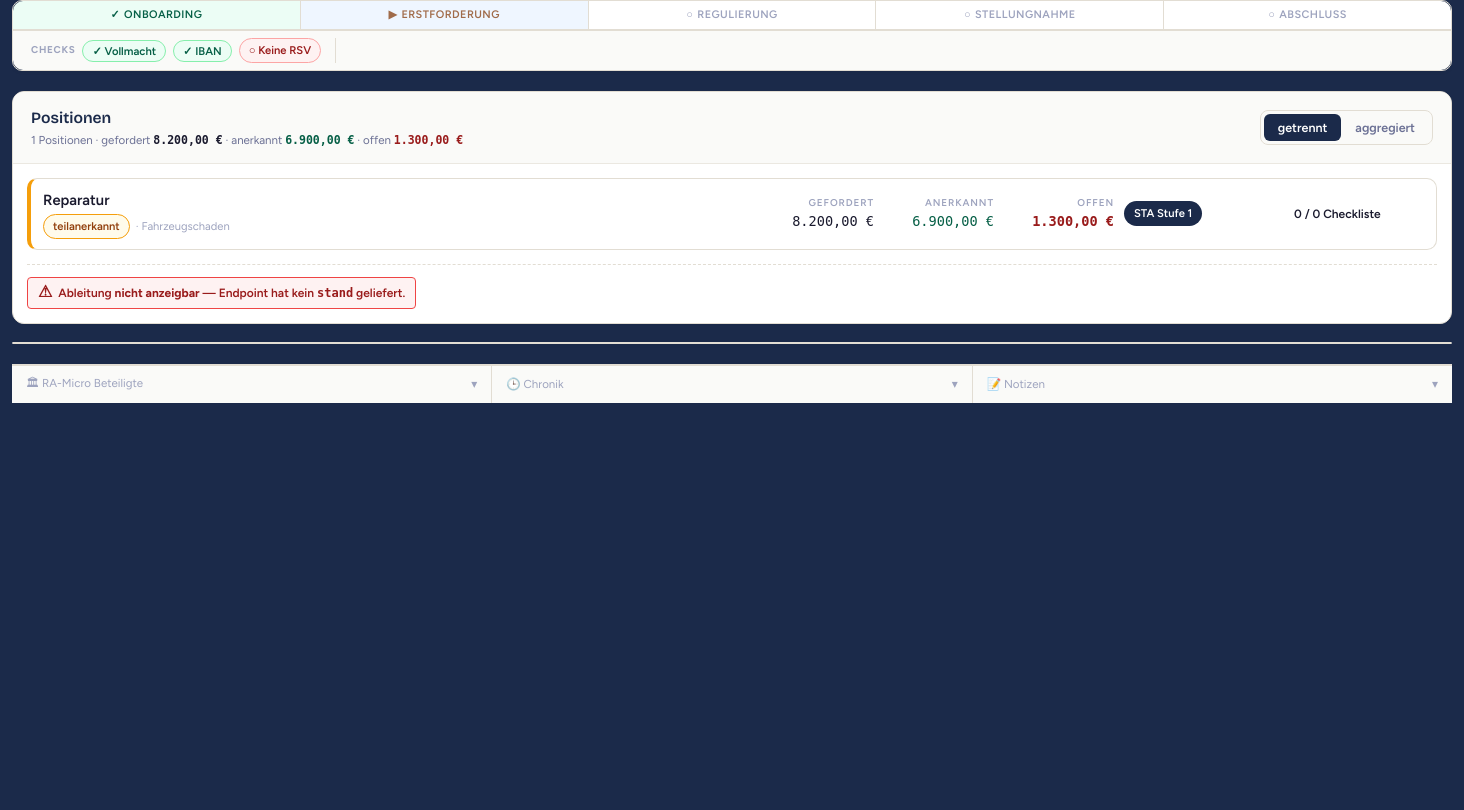
Test case: RA-Micro-Akkordeon ohne Stammdaten-Doppel › zeigt im Akkordeon keine AZ/SB-Stammdatenzeile mehr
Step 1. Click the button "🏛 RA-Micro Beteiligte ▾" → (85, 383), box [12, 366, 492, 403]
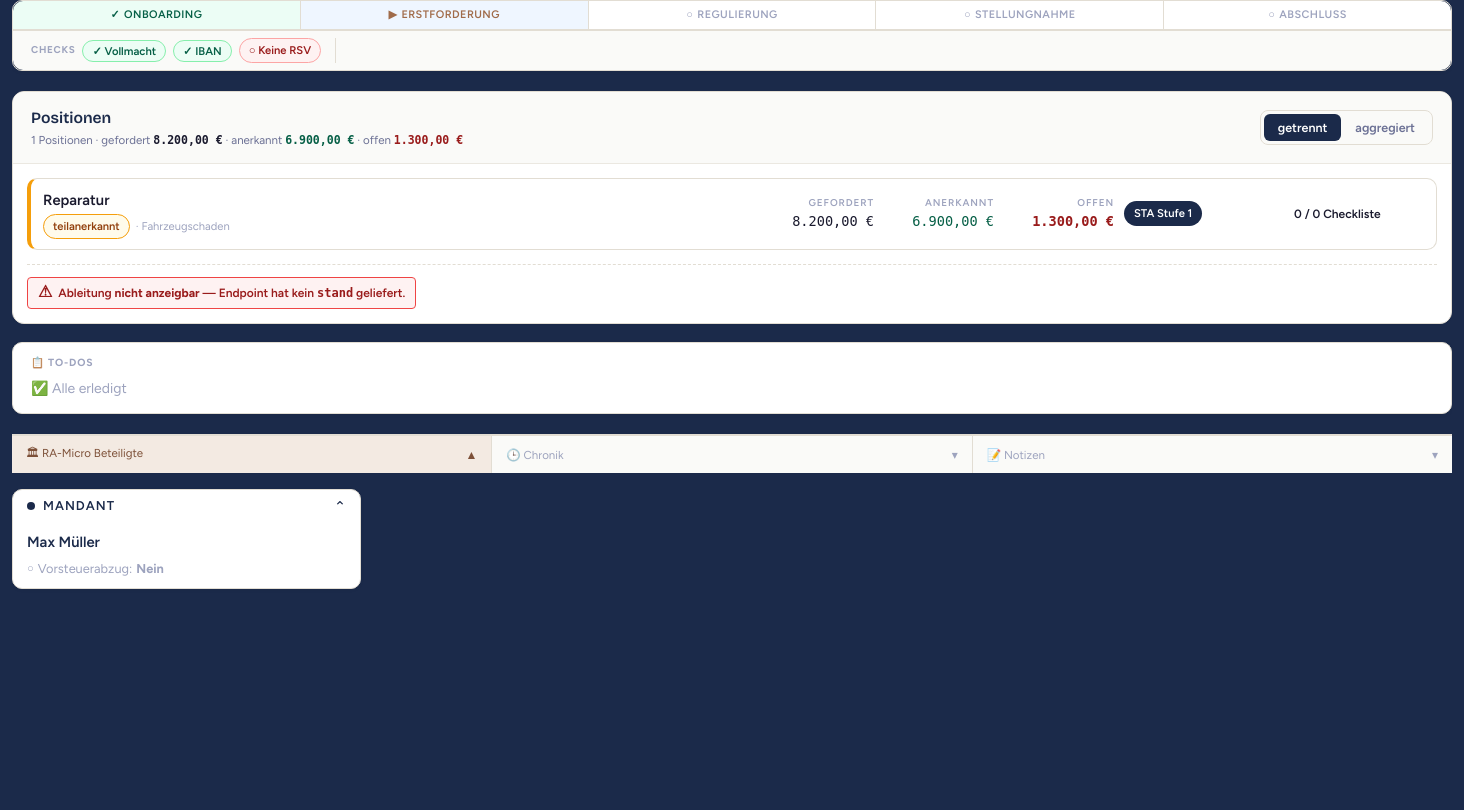
Result: the text "Max Müller" is shown at [27, 533, 100, 551]
